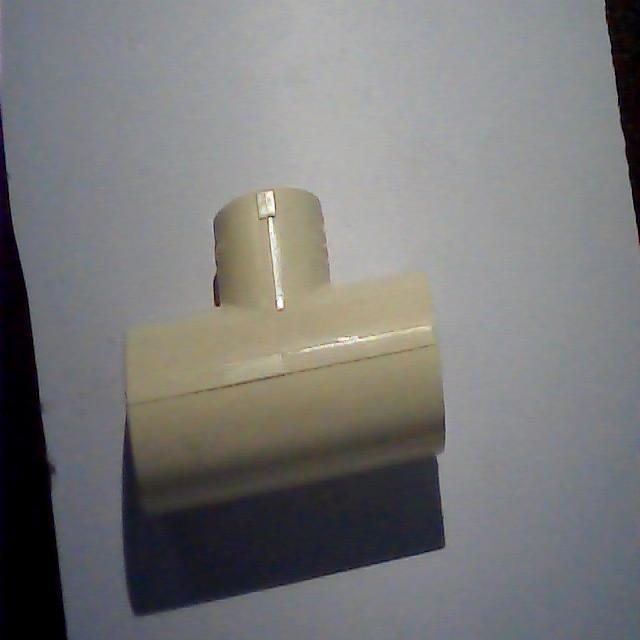T Joint: (125, 189, 445, 513)
